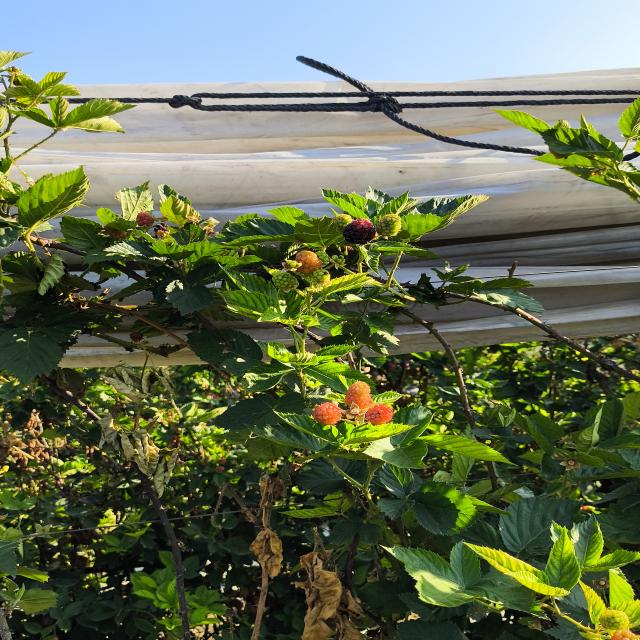marron: (343, 218, 376, 244)
naranja: (345, 381, 372, 409), (312, 402, 342, 425), (295, 250, 322, 275), (365, 404, 394, 425), (136, 212, 154, 227)
verde: (375, 214, 402, 238), (599, 610, 629, 630), (273, 271, 298, 291), (308, 269, 330, 286), (333, 214, 354, 231), (316, 251, 330, 266)
